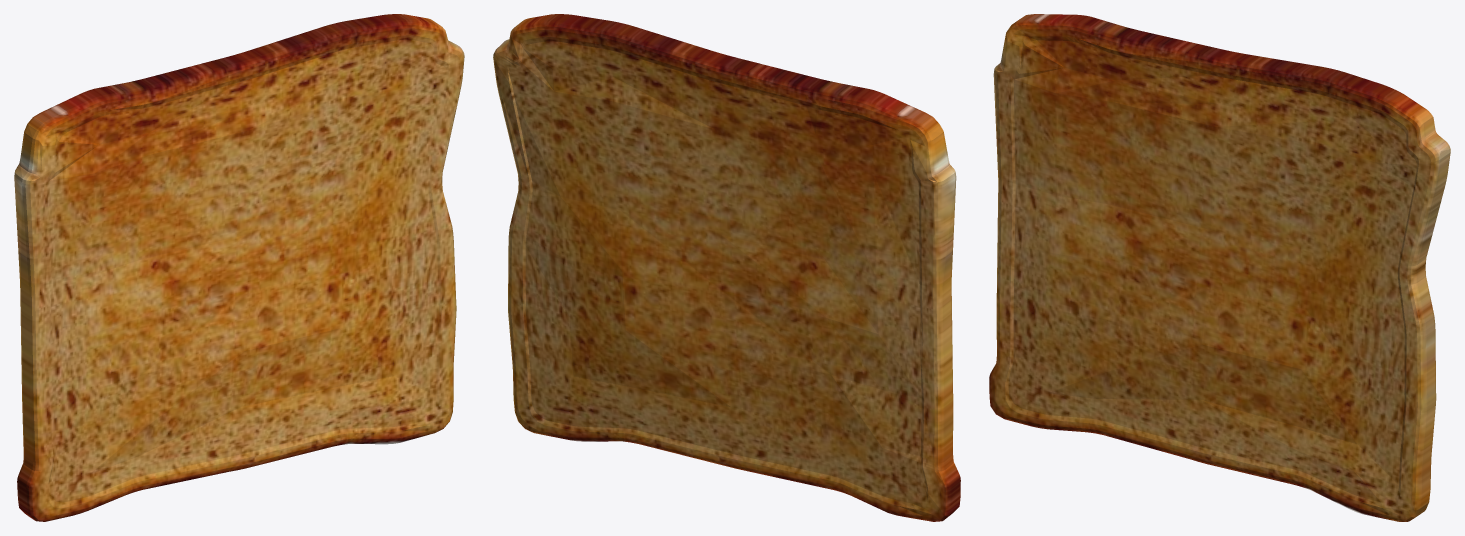
The model's file is toast.obj.
The picture shows the model from 3 angles, left to right: view 1: azimuth 30°, elevation 25°; view 2: azimuth 150°, elevation 25°; view 3: azimuth 330°, elevation 25°; orthographic projection.
Parts seen in each view (by area): view 1: cube1; view 2: cube1; view 3: cube1.
Boxes of the visible parts, bbox=[...] form: cube1: bbox=[14, 14, 464, 521]; cube1: bbox=[493, 14, 960, 521]; cube1: bbox=[989, 14, 1450, 521].
Size of the model in its own units: 2.21 by 2 by 0.2047.
1 material, 1 textured.
